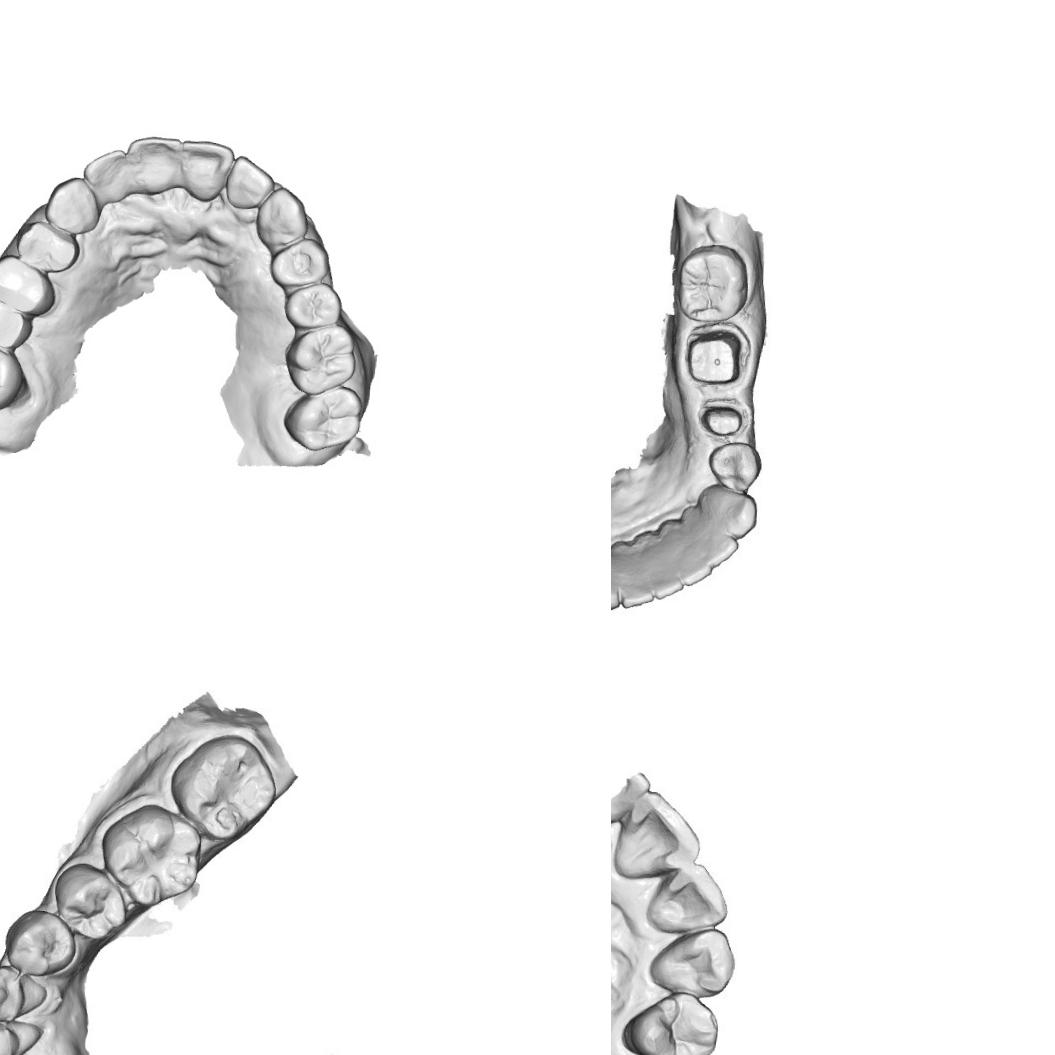canine: (643, 924, 737, 1001), (251, 182, 310, 250), (41, 173, 101, 235), (705, 486, 761, 541), (0, 960, 48, 1022), (611, 551, 628, 616)
crown: (684, 320, 750, 392), (696, 398, 752, 439)
incisor: (611, 786, 707, 883), (642, 858, 728, 939), (178, 134, 236, 206), (124, 132, 186, 192), (222, 152, 278, 212), (80, 145, 138, 199), (617, 554, 657, 612), (645, 555, 685, 602), (680, 536, 714, 588), (700, 526, 741, 568), (0, 1015, 38, 1055)
molar: (164, 730, 276, 842), (102, 795, 202, 908), (676, 240, 750, 327), (281, 382, 366, 455), (280, 324, 358, 398), (0, 326, 29, 415), (0, 294, 35, 346)
premolar: (619, 983, 718, 1055), (52, 862, 126, 940), (5, 907, 80, 975), (0, 252, 59, 317), (13, 217, 81, 272), (266, 234, 331, 290), (282, 279, 345, 333), (706, 437, 764, 495)
